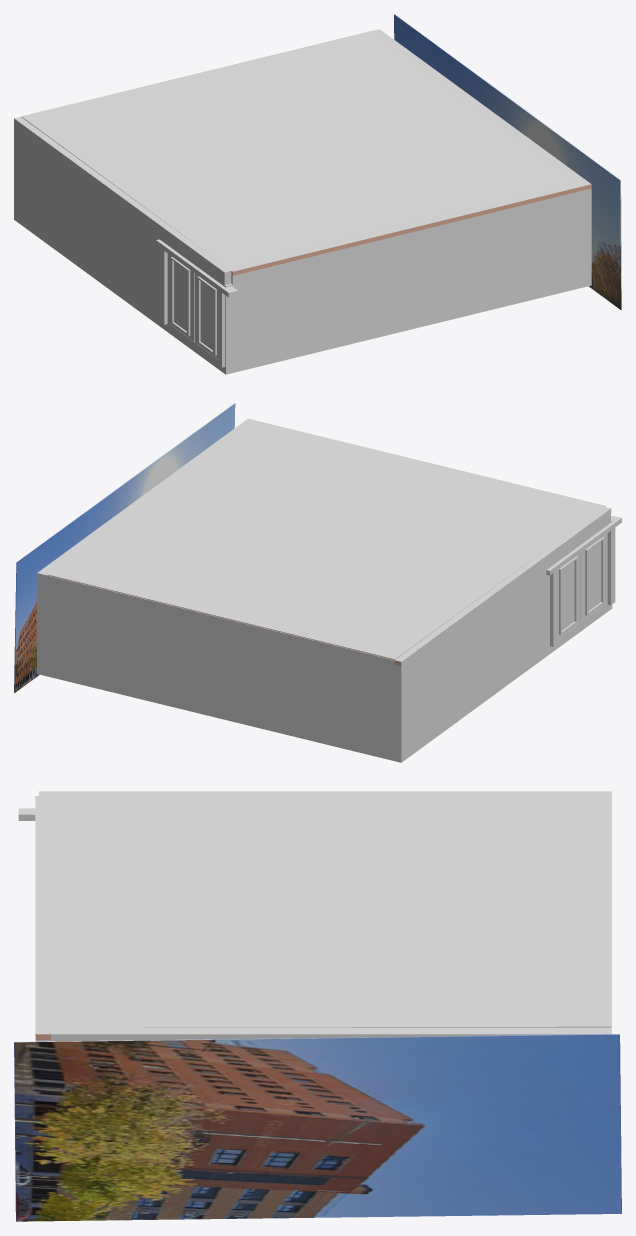
File: museo-Mostoles.glb
The picture shows the model from 3 angles, top to bottom: view 1: azimuth 30°, elevation 25°; view 2: azimuth 150°, elevation 25°; view 3: azimuth 270°, elevation 25°; orthographic projection. The views are drawn at different scales.
Parts seen in each view (by area): view 1: Cube.006, Cube, Cube.002, Cube.001, Cube.005, Cube.003, Cube.004; view 2: Cube.006, Cube, Cube.001, Cube.002, Cube.003, Cube.005, Cube.004; view 3: Cube.006, Cube.
Part boxes in pixels (left/top/right/bottom): Cube.006: left=14, top=29, right=591, bottom=374; Cube: left=394, top=14, right=621, bottom=310; Cube.002: left=170, top=255, right=194, bottom=341; Cube.001: left=194, top=273, right=217, bottom=358; Cube.005: left=156, top=239, right=238, bottom=297; Cube.003: left=217, top=288, right=225, bottom=367; Cube.004: left=160, top=245, right=167, bottom=324; Cube.006: left=37, top=418, right=612, bottom=762; Cube: left=14, top=403, right=235, bottom=692; Cube.001: left=580, top=534, right=606, bottom=621; Cube.002: left=557, top=553, right=580, bottom=638; Cube.003: left=607, top=528, right=615, bottom=605; Cube.005: left=546, top=515, right=621, bottom=575; Cube.004: left=550, top=567, right=557, bottom=646; Cube.006: left=35, top=791, right=611, bottom=1041; Cube: left=14, top=1034, right=621, bottom=1221.
Size of the model in its own units: 693 by 228 by 684.
5 materials, 1 textured.
